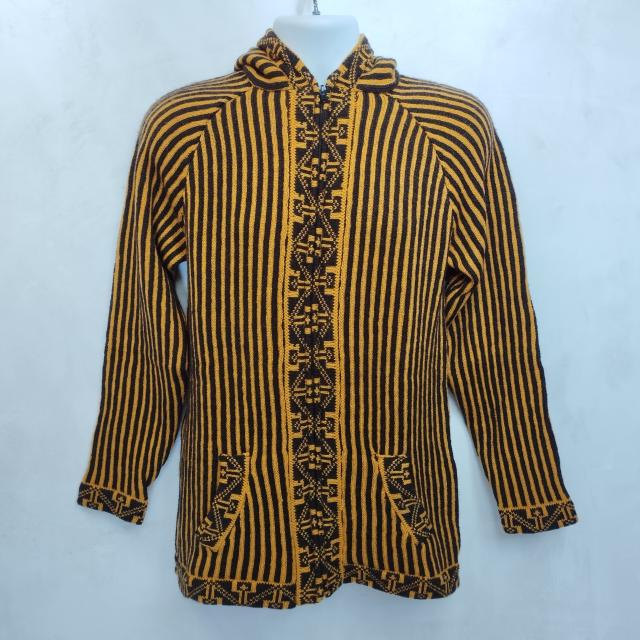Chompa: (77, 22, 578, 609)
